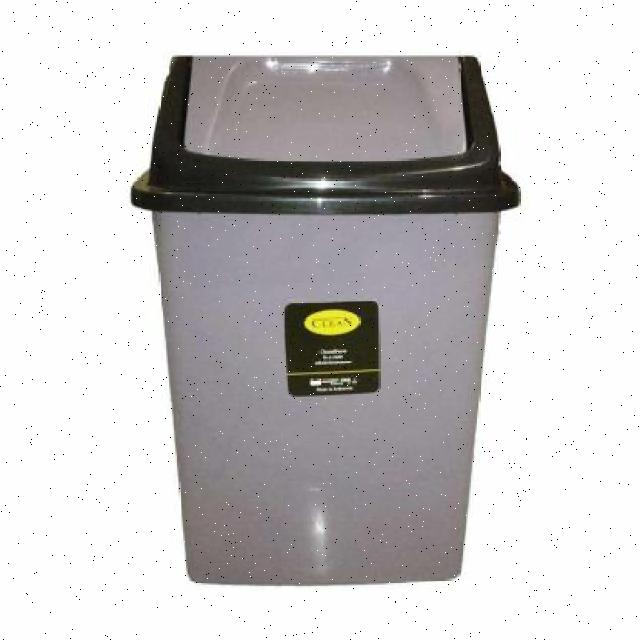garbage container: (122, 44, 550, 604)
